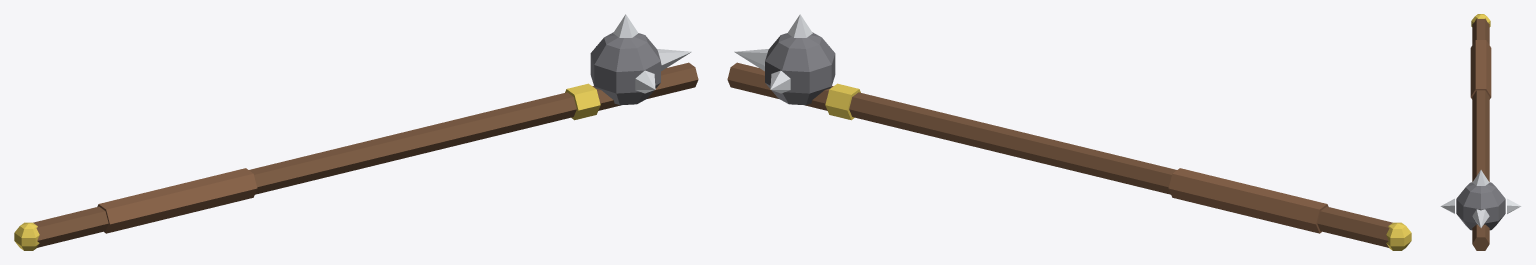
The model's file is long_morning_star.glb.
The picture shows the model from 3 angles, left to right: view 1: azimuth 30°, elevation 25°; view 2: azimuth 150°, elevation 25°; view 3: azimuth 270°, elevation 25°; orthographic projection. The views are drawn at different scales.
Visible parts, largest first — view 1: long_morning_star; view 2: long_morning_star; view 3: long_morning_star.
Part boxes in pixels (x1=…): long_morning_star: x1=14, y1=14, x2=698, y2=250; long_morning_star: x1=727, y1=14, x2=1411, y2=250; long_morning_star: x1=1440, y1=14, x2=1521, y2=250.
Bounding box in the file's own units: 0.9 × 0.1156 × 0.1378.
